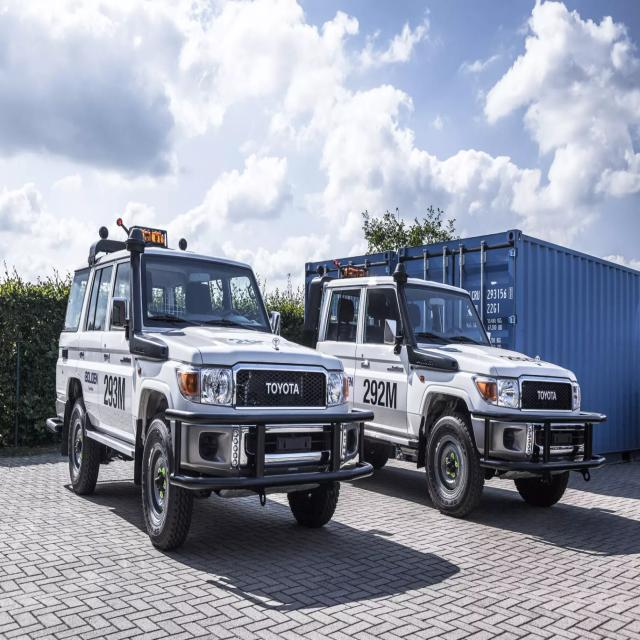light_vehicle: (50, 227, 375, 558), (305, 244, 609, 534)
